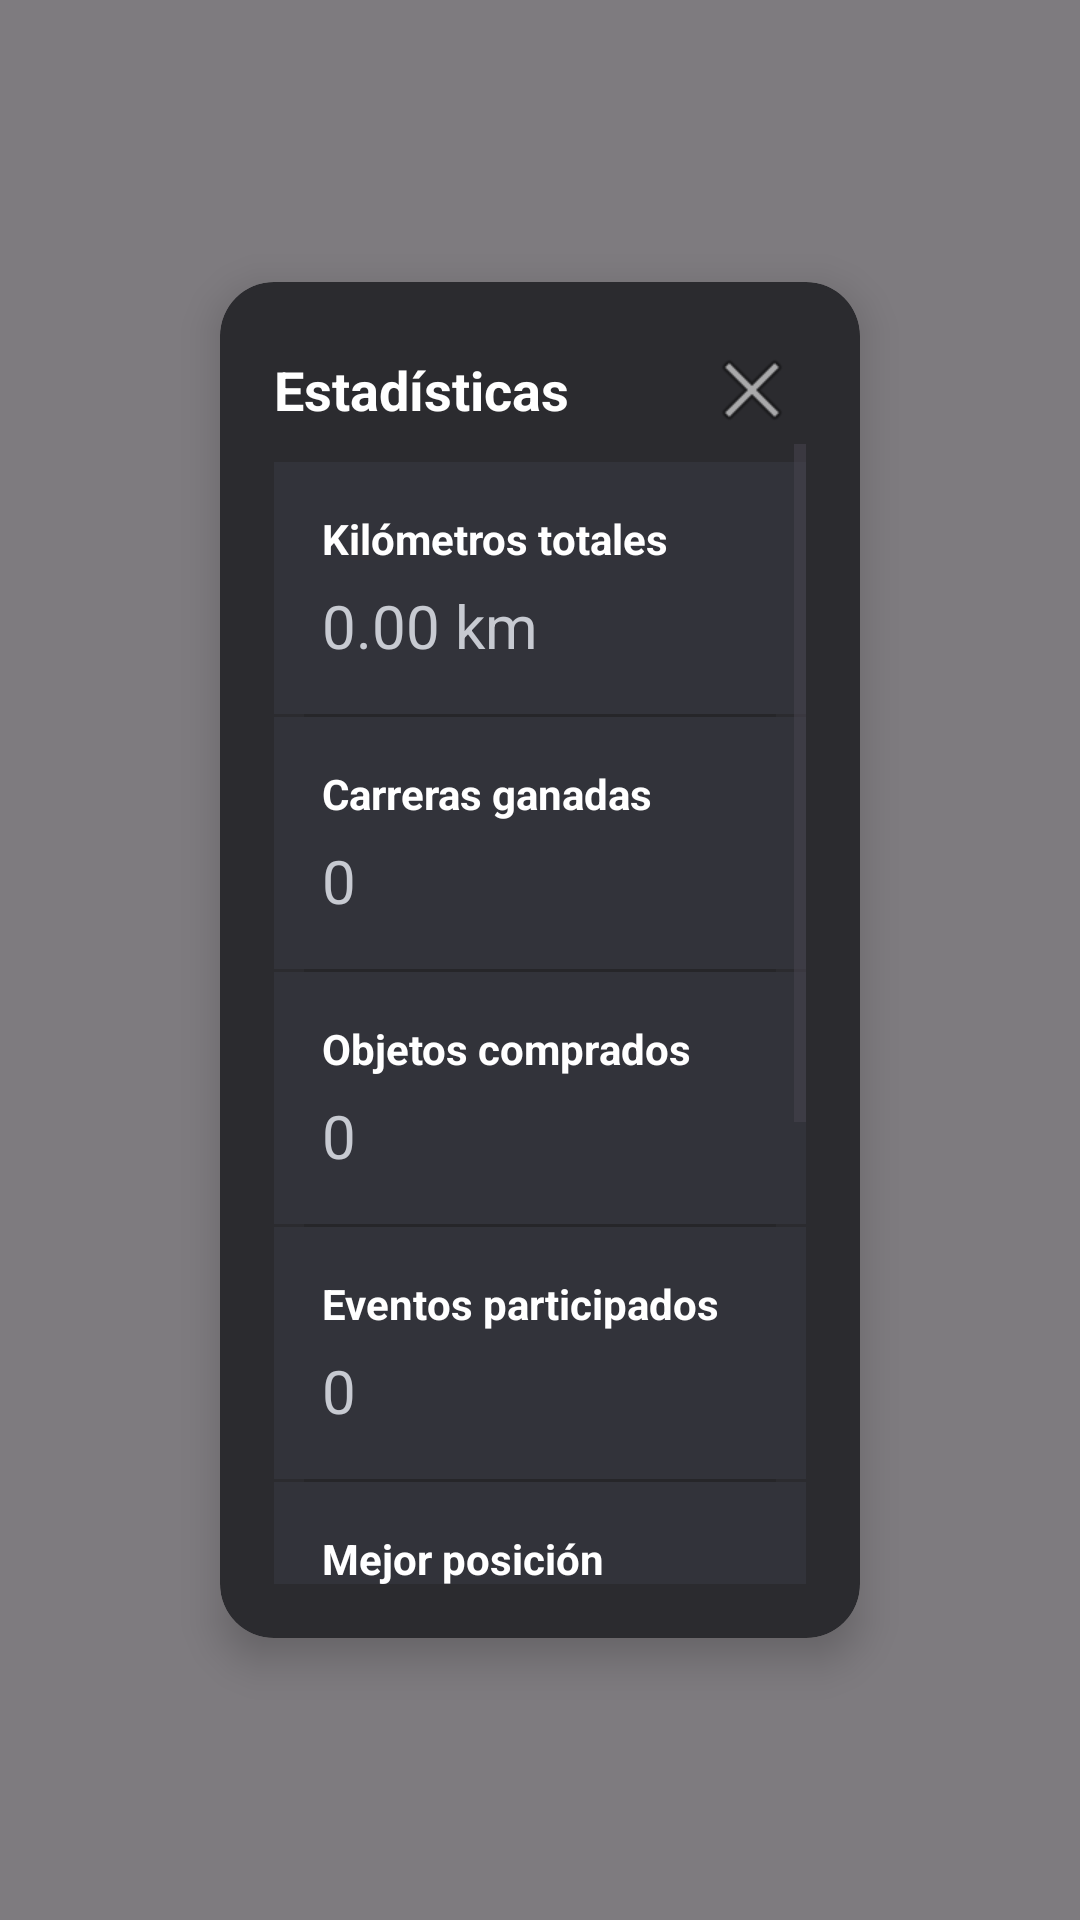

Icons on this 1080*1920 Android screen, each with its box as bbox=(x1, y1, x2, y2):
close clear cancel: bbox=(725, 363, 779, 417)
